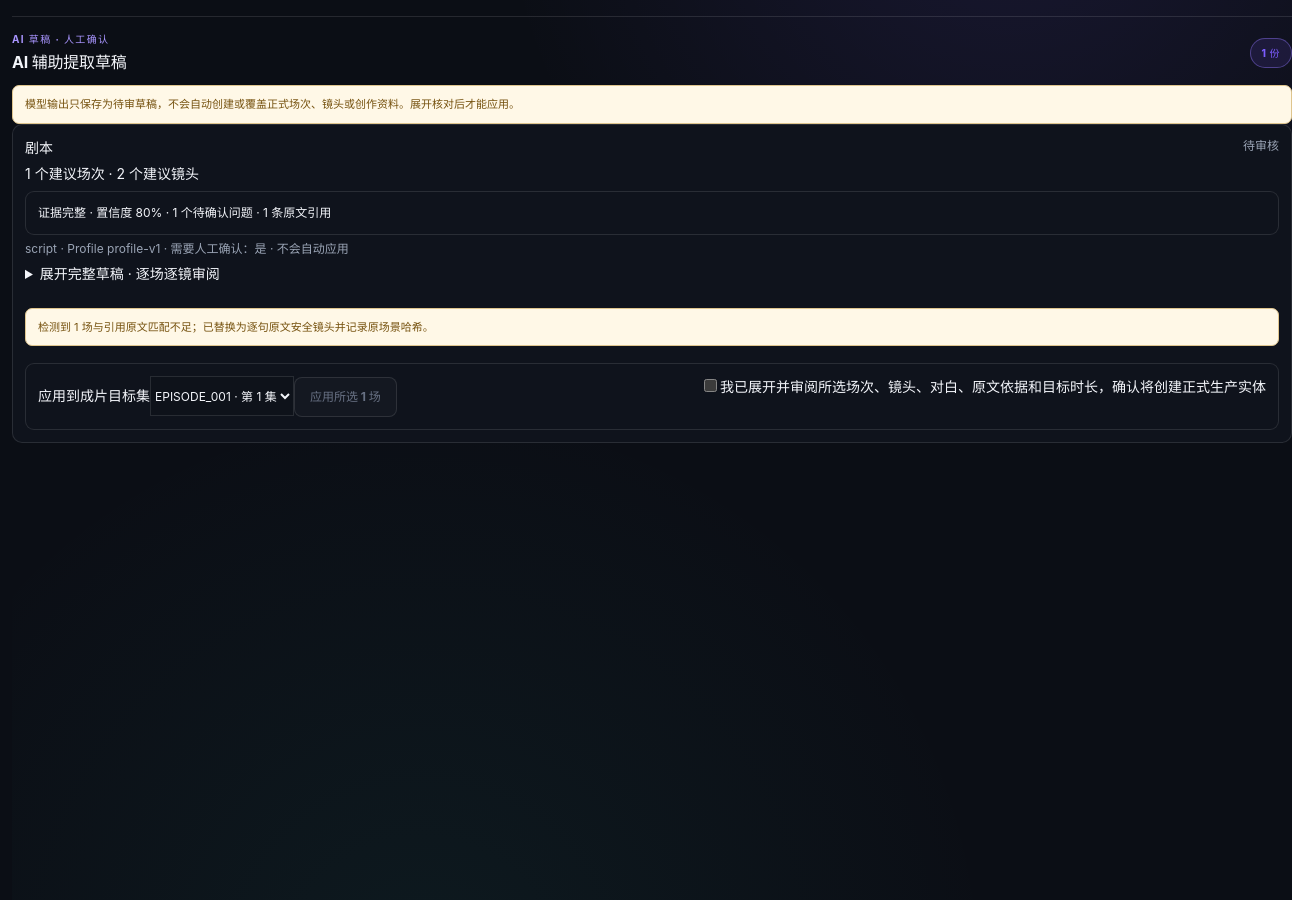
Test case: AIDraftReviewPanel › discloses extractive scene fallback without blocking the auditable sanitized draft
Check: the text "检测到 1 场与引用原文匹配不足；已替换为逐句原文安全镜头并记录原场景哈希。" is shown, box [25,308,1279,346]
Check: the button with aria-label "应用到成片" is disabled, box [294,377,397,417]
Click the checkbox labelled "我已展开并审阅所选场次、镜头、对白、原文依据和目标时长，确认将创建正式生产实体": click(710, 386) [704,379,717,392]
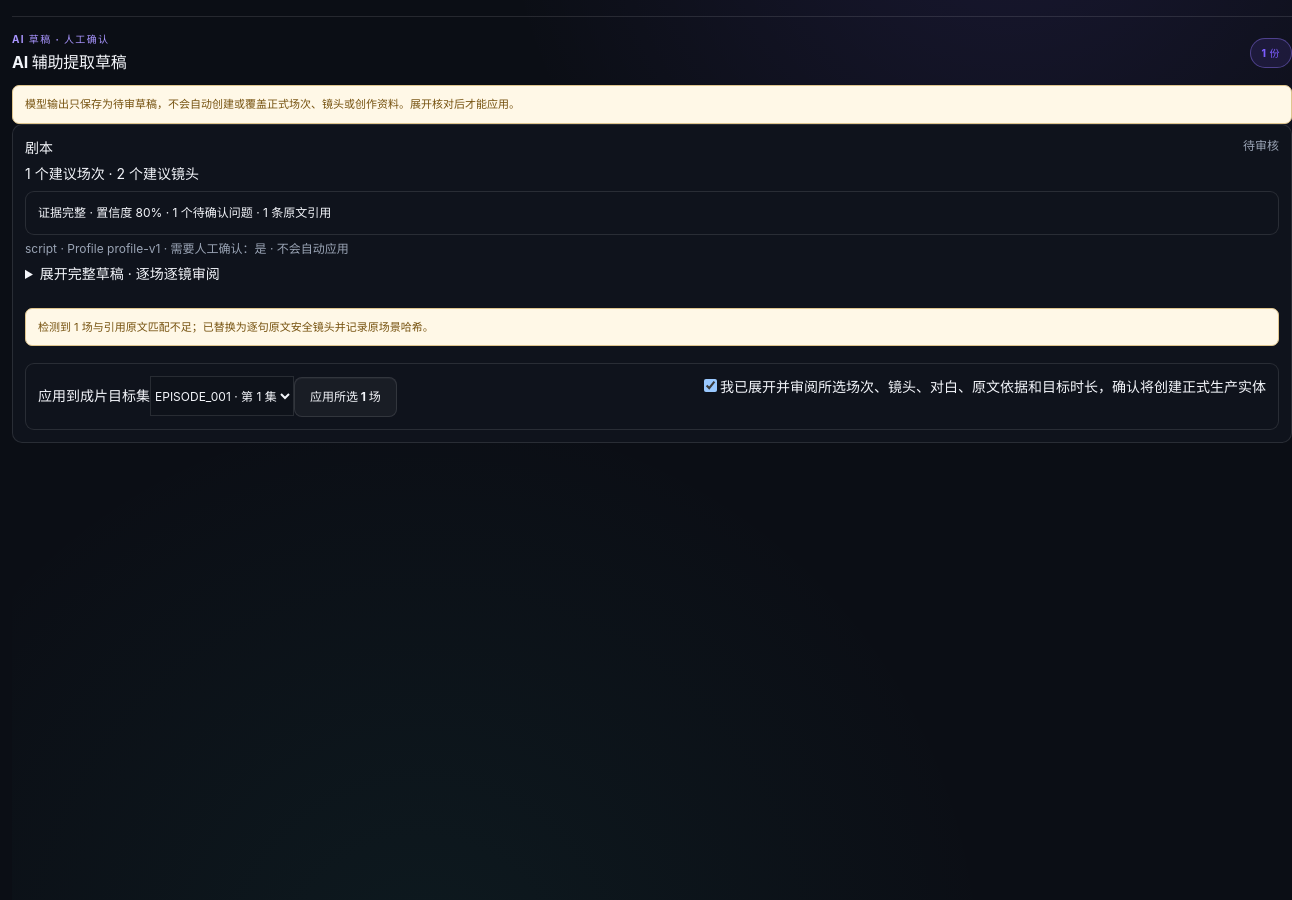
Check: the button with aria-label "应用到成片" is enabled, box [294,377,397,417]
